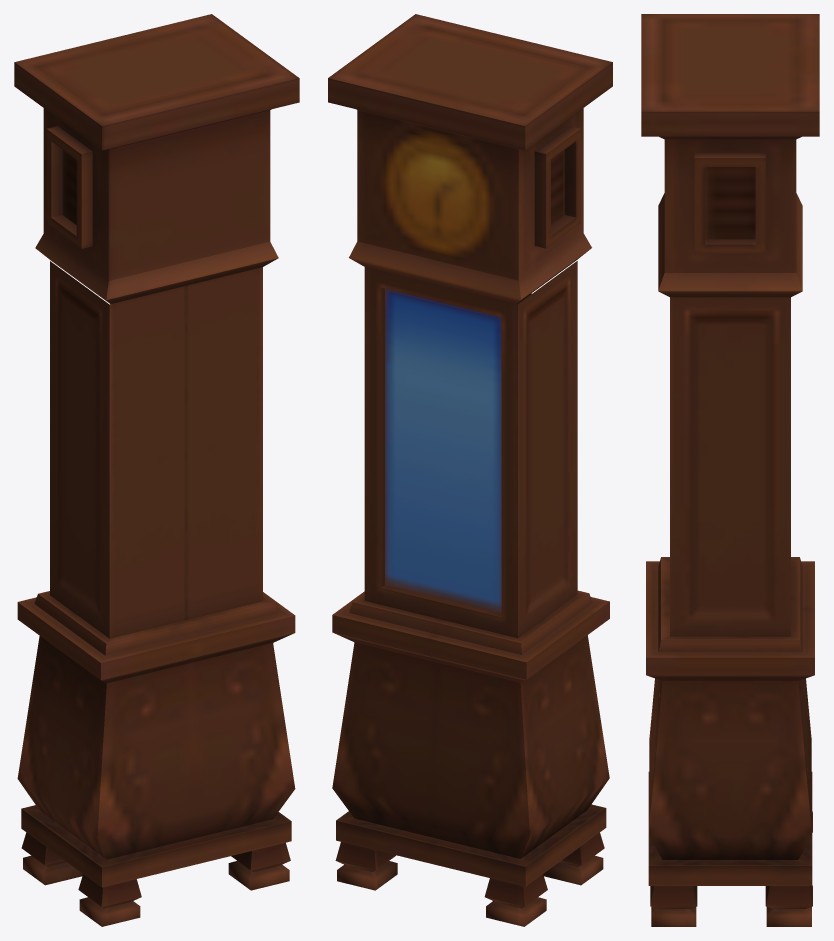
File: Clock_02.gltf
3 views of the same model, side by side, from view 1: azimuth 30°, elevation 25°; view 2: azimuth 150°, elevation 25°; view 3: azimuth 270°, elevation 25° (orthographic).
Parts seen in each view (by area): view 1: Clock_02; view 2: Clock_02; view 3: Clock_02.
Part boxes in pixels (bbox=[...]): Clock_02: bbox=[14, 14, 299, 926]; Clock_02: bbox=[328, 14, 612, 926]; Clock_02: bbox=[641, 14, 819, 926].
Bounding box in the file's own units: 21.6 × 83.86 × 16.55.
1 material, 1 textured.
